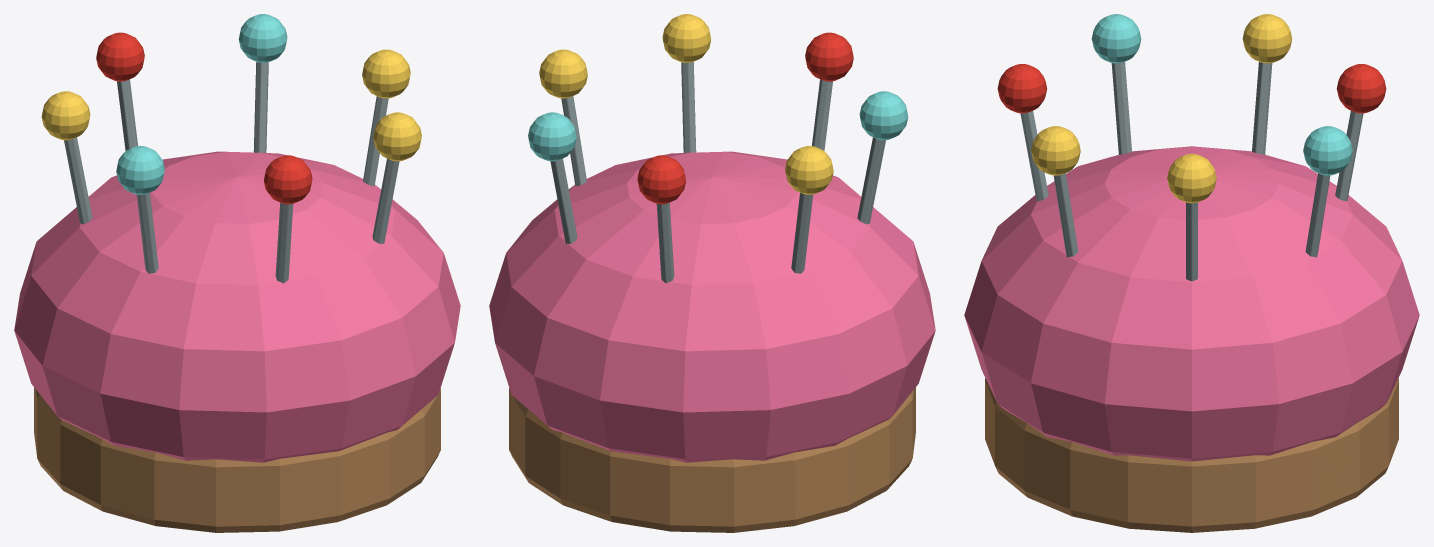
File: P093_pin_cushion.glb
3 renders of one model, left to right at view 1: azimuth 30°, elevation 25°; view 2: azimuth 150°, elevation 25°; view 3: azimuth 270°, elevation 25°, orthographic.
Visible parts, largest first — view 1: P093_cushion_001, P093_base_002, P093_pin_head_014, P093_pin_head_016, P093_pin_head_004, P093_pin_head_008, P093_pin_head_010, P093_pin_head_012, P093_pin_head_006, P093_soft_pin_005, P093_soft_pin_009, P093_soft_pin_015 (+4 smaller); view 2: P093_cushion_001, P093_base_002, P093_pin_head_006, P093_pin_head_008, P093_pin_head_004, P093_pin_head_014, P093_pin_head_010, P093_pin_head_012, P093_pin_head_016, P093_soft_pin_015, P093_soft_pin_011, P093_soft_pin_005 (+4 smaller); view 3: P093_cushion_001, P093_base_002, P093_pin_head_004, P093_pin_head_008, P093_pin_head_014, P093_pin_head_006, P093_pin_head_016, P093_pin_head_010, P093_pin_head_012, P093_soft_pin_009, P093_soft_pin_011, P093_soft_pin_005 (+4 smaller).
Boxes of the visible parts, x1,y1,x2,y2 form: P093_cushion_001: [14, 151, 460, 462]; P093_base_002: [34, 387, 440, 532]; P093_pin_head_014: [264, 155, 312, 204]; P093_pin_head_016: [373, 112, 421, 161]; P093_pin_head_004: [362, 49, 410, 98]; P093_pin_head_008: [96, 32, 144, 81]; P093_pin_head_010: [41, 91, 90, 140]; P093_pin_head_012: [116, 146, 164, 194]; P093_pin_head_006: [238, 14, 287, 62]; P093_soft_pin_005: [253, 62, 268, 152]; P093_soft_pin_009: [64, 137, 92, 224]; P093_soft_pin_015: [372, 158, 399, 243]; P093_cushion_001: [489, 151, 935, 462]; P093_base_002: [509, 387, 915, 532]; P093_pin_head_006: [528, 112, 576, 161]; P093_pin_head_008: [637, 155, 685, 204]; P093_pin_head_004: [539, 49, 587, 98]; P093_pin_head_014: [805, 32, 853, 81]; P093_pin_head_010: [785, 146, 833, 194]; P093_pin_head_012: [859, 91, 908, 140]; P093_pin_head_016: [662, 14, 711, 62]; P093_soft_pin_015: [681, 62, 696, 152]; P093_soft_pin_011: [857, 137, 885, 224]; P093_soft_pin_005: [550, 158, 577, 243]; P093_cushion_001: [964, 146, 1419, 461]; P093_base_002: [985, 378, 1398, 532]; P093_pin_head_004: [1167, 153, 1216, 203]; P093_pin_head_008: [1336, 64, 1386, 113]; P093_pin_head_014: [997, 64, 1047, 113]; P093_pin_head_006: [1303, 126, 1352, 175]; P093_pin_head_016: [1031, 126, 1080, 175]; P093_pin_head_010: [1242, 14, 1292, 63]; P093_pin_head_012: [1091, 14, 1141, 63]; P093_soft_pin_009: [1252, 62, 1272, 154]; P093_soft_pin_011: [1111, 62, 1131, 154]; P093_soft_pin_005: [1305, 173, 1330, 257].
Bounding box in the file's own units: 0.11 × 0.1 × 0.11.
